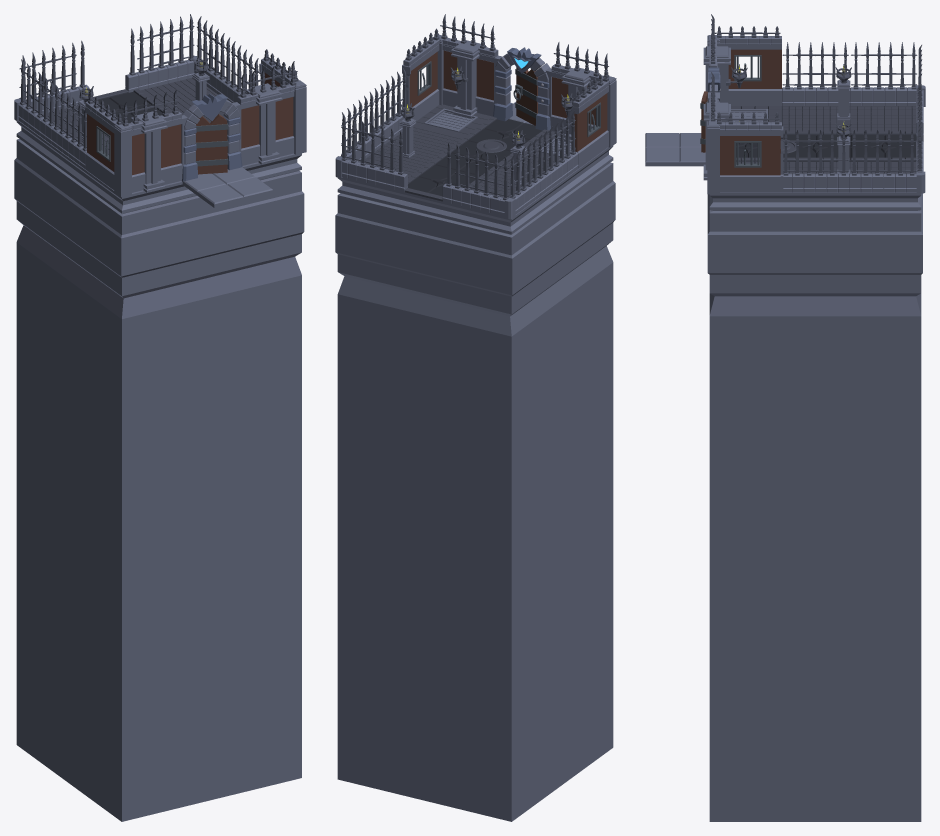
File: entrance.fbx
The picture shows the model from 3 angles, left to right: view 1: azimuth 30°, elevation 25°; view 2: azimuth 150°, elevation 25°; view 3: azimuth 270°, elevation 25°; orthographic projection. The views are drawn at different scales.
Visible parts, largest first — view 1: Entrance, Cube.012, Cube.025, Cube.011, Cube.002, Cube.016, Cube.014, Cube.091, Cube, Cube.007, Cube.080, Cube.050 (+13 smaller); view 2: Entrance, Cube.012, Cube.091, Cube.016, Cube, Cube.100, Cube.017, Cube.006, Cube.002, Cube.026, Cube.080, Cube.077 (+17 smaller); view 3: Entrance, Cube.100, Cube.091, Cube.025, Cube.052, Cube.024, Cube.058, Cube.057, Cube.085, Cube.051, Cube.088, Cube.086 (+10 smaller).
Part boxes in pixels (x1,y1,x2,y2): Entrance: [14, 121, 304, 821]; Cube.012: [241, 92, 294, 165]; Cube.025: [182, 167, 273, 207]; Cube.011: [132, 119, 182, 192]; Cube.002: [195, 114, 228, 174]; Cube.016: [245, 83, 282, 164]; Cube.014: [131, 111, 167, 192]; Cube.091: [85, 108, 114, 190]; Cube: [182, 93, 242, 181]; Cube.007: [114, 124, 131, 197]; Cube.080: [138, 14, 194, 73]; Cube.050: [140, 77, 217, 112]; Entrance: [335, 112, 615, 821]; Cube.012: [442, 45, 493, 116]; Cube.091: [572, 87, 608, 168]; Cube.016: [451, 40, 486, 118]; Cube: [493, 47, 550, 130]; Cube.100: [409, 46, 439, 121]; Cube.017: [377, 128, 461, 163]; Cube.006: [495, 53, 550, 115]; Cube.002: [513, 67, 537, 125]; Cube.026: [468, 119, 542, 151]; Cube.080: [341, 117, 395, 172]; Cube.077: [455, 145, 508, 200]; Entrance: [707, 112, 922, 821]; Cube.100: [720, 130, 780, 192]; Cube.091: [720, 44, 781, 106]; Cube.025: [645, 133, 705, 166]; Cube.052: [850, 106, 915, 132]; Cube.024: [782, 106, 850, 131]; Cube.058: [849, 173, 916, 192]; Cube.057: [783, 173, 849, 192]; Cube.085: [850, 87, 916, 106]; Cube.051: [850, 135, 916, 158]; Cube.088: [782, 87, 850, 106]; Cube.086: [853, 42, 916, 89].
Bounding box in the file's own units: 632 × 2331 × 820.
